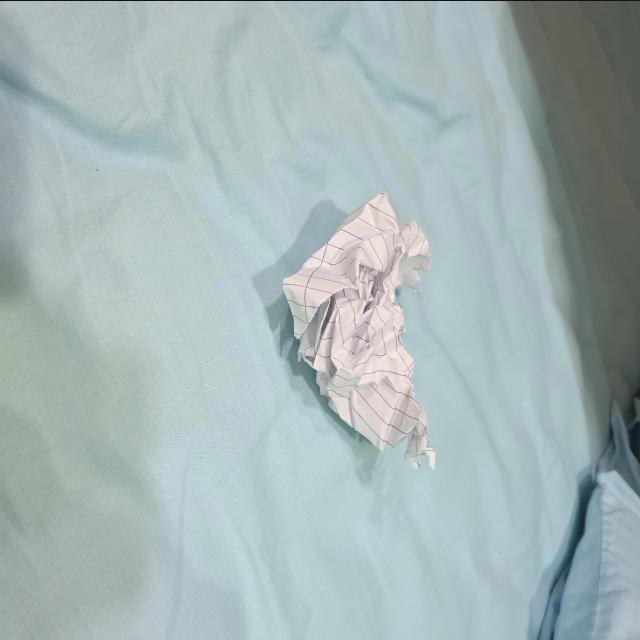Paper: (261, 180, 458, 484)
